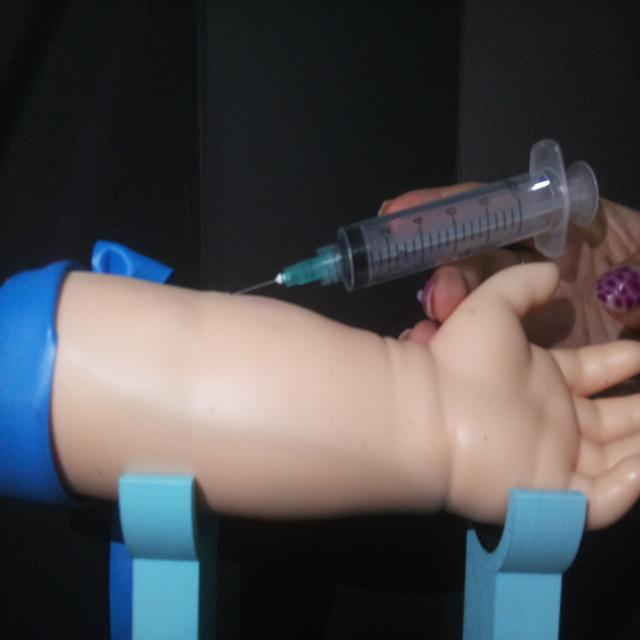23deg: (229, 134, 603, 302)
